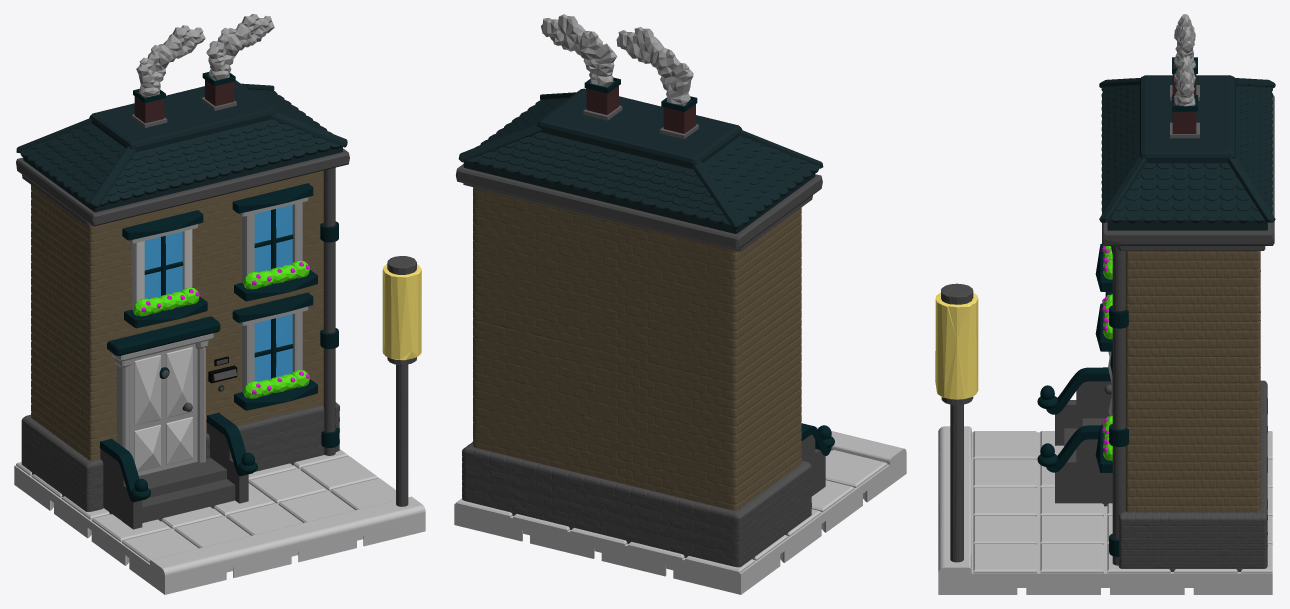
The model's file is 10x10 house 2.glb.
The picture shows the model from 3 angles, left to right: view 1: azimuth 30°, elevation 25°; view 2: azimuth 150°, elevation 25°; view 3: azimuth 270°, elevation 25°; orthographic projection. The views are drawn at different scales.
Visible parts, largest first — view 1: COLOR_, PLACEMENT_BASE 2, Box 272, Box 4, Box 261, light_h (×3), Cylinder, LIGHT_V, Cylinder 4, NOcontact_, Box 244, SMOKE_5 (+28 smaller); view 2: COLOR_, Box 272, Box 4, PLACEMENT_BASE 2, Cylinder, SMOKE_5, SMOKE_4, Box 261, Quad Sphere 18, Quad Sphere 26, Box 259; view 3: COLOR_, PLACEMENT_BASE 2, Box 272, Box 4, Box 261, LIGHT_V, Cylinder, Cylinder 4, NOcontact_, Box 259, Box 260, SMOKE_4 (+2 smaller).
Boxes of the visible parts, x1,y1,x2,y2 form: COLOR_: [31, 170, 323, 460]; PLACEMENT_BASE 2: [14, 449, 425, 594]; Box 272: [16, 80, 347, 212]; Box 4: [21, 402, 339, 511]; Box 261: [99, 420, 248, 529]; light_h (×3): [144, 205, 292, 381]; Cylinder: [16, 148, 349, 226]; LIGHT_V: [382, 264, 421, 360]; Cylinder 4: [323, 167, 335, 455]; NOcontact_: [387, 256, 416, 506]; Box 244: [130, 344, 197, 475]; SMOKE_5: [136, 25, 205, 97]; COLOR_: [473, 187, 801, 510]; Box 272: [458, 88, 823, 233]; Box 4: [462, 442, 811, 567]; PLACEMENT_BASE 2: [454, 427, 906, 594]; Cylinder: [456, 164, 822, 251]; SMOKE_5: [616, 27, 693, 105]; SMOKE_4: [541, 14, 617, 87]; Box 261: [801, 434, 825, 496]; Quad Sphere 18: [663, 99, 695, 133]; Quad Sphere 26: [586, 81, 618, 114]; Box 259: [801, 423, 834, 455]; COLOR_: [1126, 251, 1260, 512]; PLACEMENT_BASE 2: [938, 426, 1272, 594]; Box 272: [1099, 75, 1275, 230]; Box 4: [1118, 380, 1267, 571]; Box 261: [1055, 381, 1112, 506]; LIGHT_V: [935, 292, 978, 399]; Cylinder: [1102, 95, 1274, 250]; Cylinder 4: [1112, 246, 1125, 565]; NOcontact_: [941, 283, 973, 562]; Box 259: [1037, 367, 1110, 414]; Box 260: [1037, 425, 1100, 472]; SMOKE_4: [1174, 55, 1195, 106].
Bounding box in the file's own units: 101 × 167 × 102.
